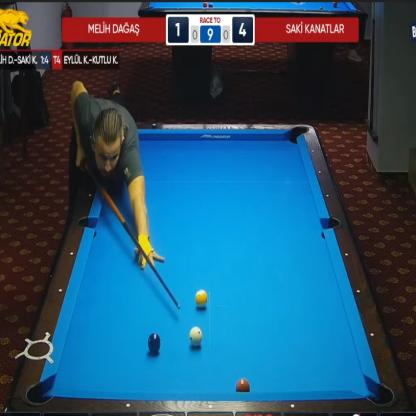Ball: (148, 332, 161, 354), (190, 326, 202, 347), (195, 289, 207, 308), (235, 378, 250, 392)
